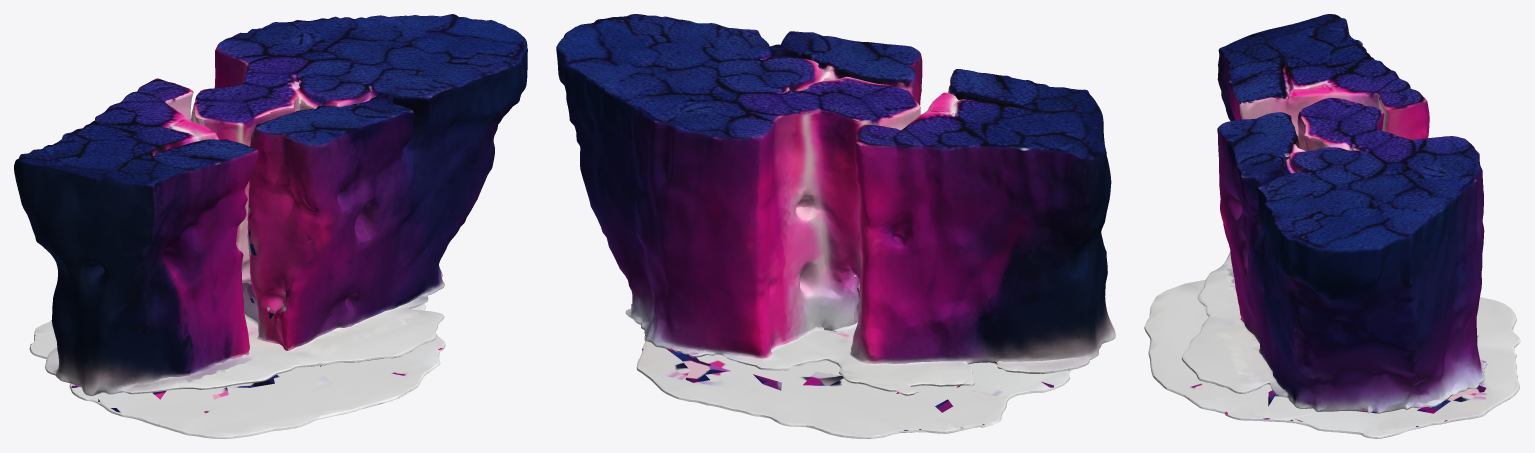
Rendered from shelf-break-1-generated-2026-05-17T20-34-49-162Z.high.glb.
The picture shows the model from 3 angles, left to right: view 1: azimuth 30°, elevation 25°; view 2: azimuth 150°, elevation 25°; view 3: azimuth 270°, elevation 25°; orthographic projection. The views are drawn at different scales.
Parts seen in each view (by area): view 1: temp_mesh.ply; view 2: temp_mesh.ply; view 3: temp_mesh.ply.
Boxes of the visible parts, x1,y1,x2,y2 form: temp_mesh.ply: (14, 14, 527, 438); temp_mesh.ply: (556, 14, 1115, 438); temp_mesh.ply: (1144, 14, 1520, 438).
Bounding box in the file's own units: 1.97 × 0.8977 × 1.32.
Materials: 1 (1 with a texture image).
